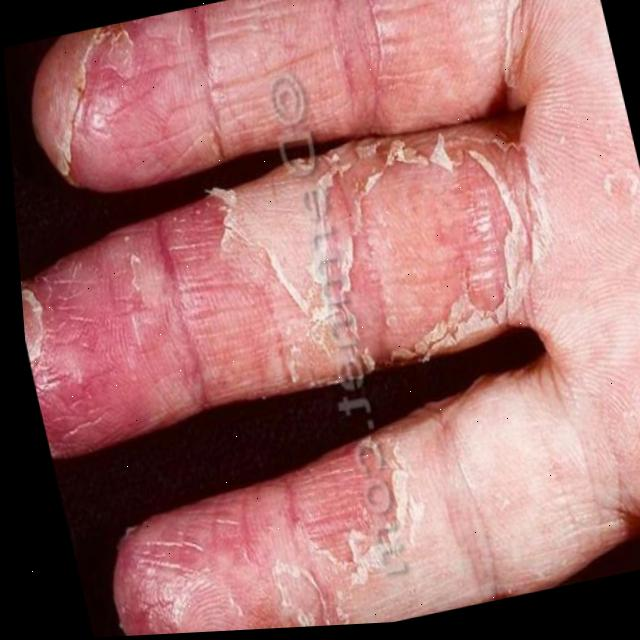Eczema: (10, 0, 603, 639)
